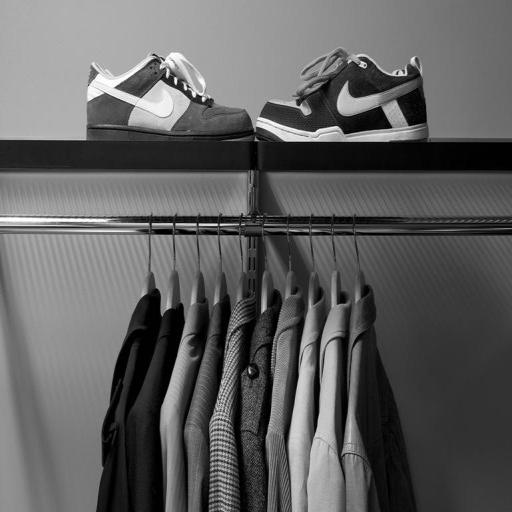shoe: (256, 48, 428, 141), (86, 53, 254, 140)
